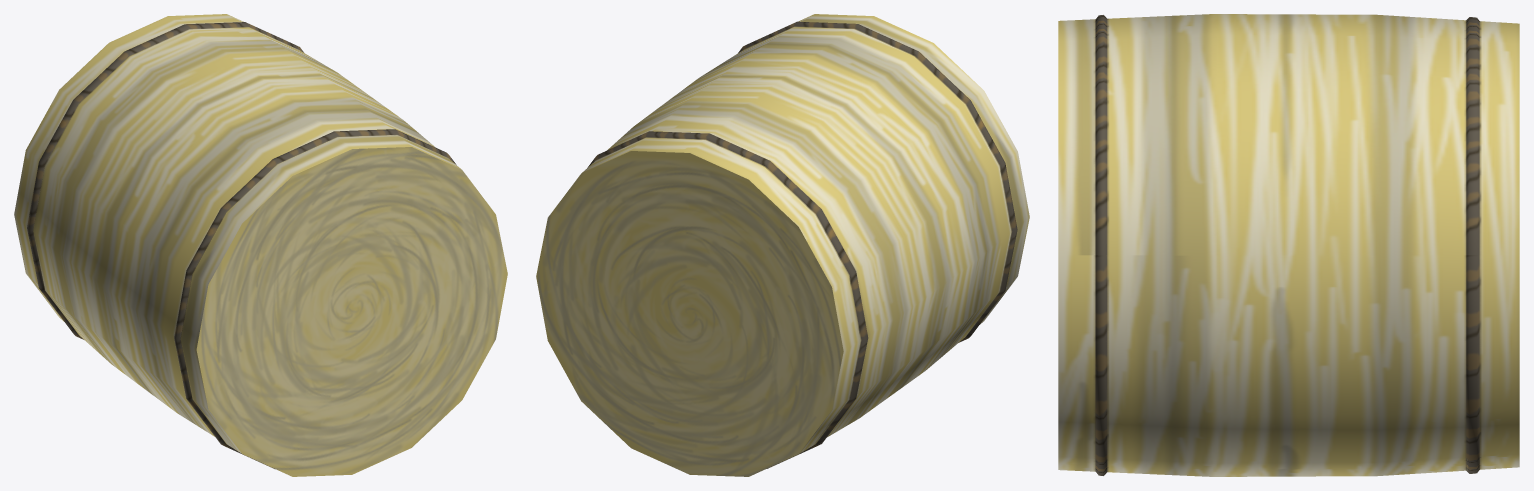
File: hayBale.fbx
3 renders of one model, left to right at view 1: azimuth 30°, elevation 25°; view 2: azimuth 150°, elevation 25°; view 3: azimuth 270°, elevation 25°, orthographic. The views are drawn at different scales.
Parts seen in each view (by area): view 1: pCylinder1; view 2: pCylinder1; view 3: pCylinder1.
Part boxes in pixels (box(x1,y1,x2,y2)): pCylinder1: box(14, 14, 507, 476); pCylinder1: box(536, 14, 1029, 476); pCylinder1: box(1058, 14, 1519, 476).
Bounding box in the file's own units: 2.24 × 2.24 × 2.23.
